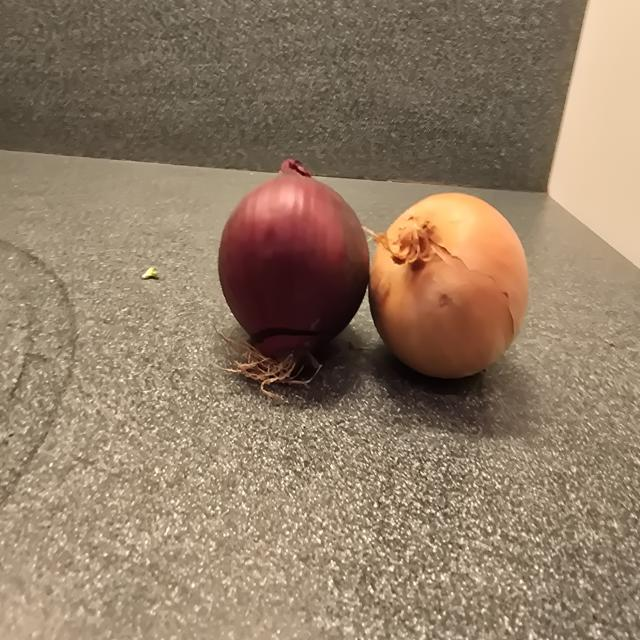Onion: (218, 159, 369, 381), (369, 193, 528, 378)
